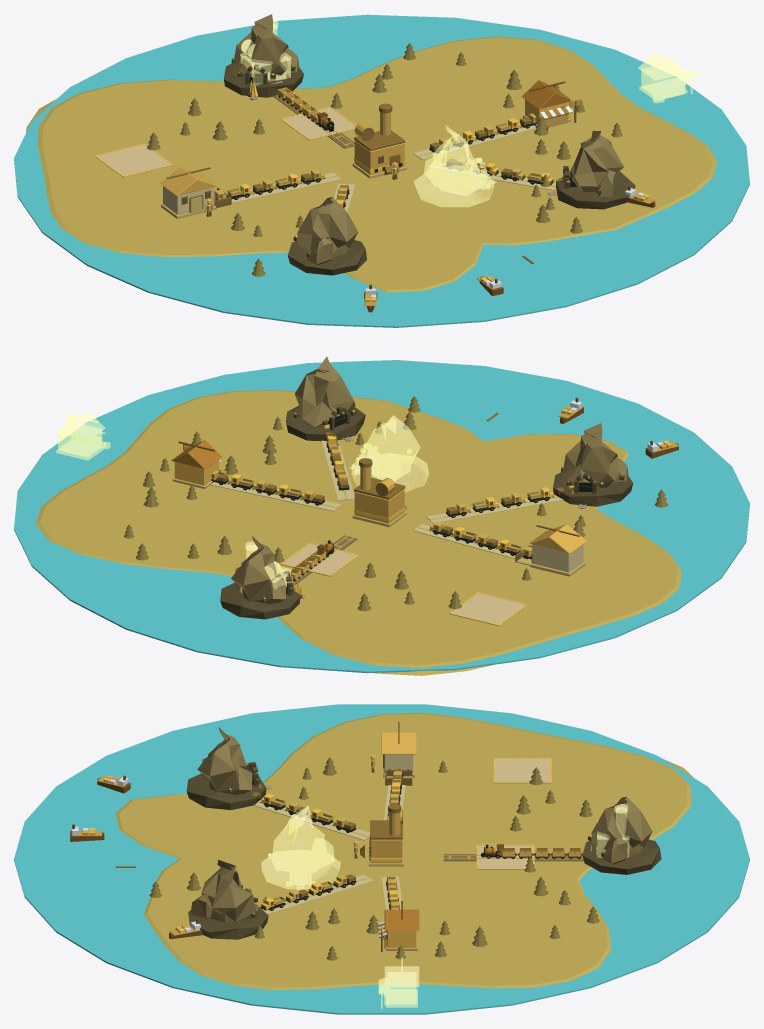
File: Island_Gold.fbx
3 views of the same model, one above another, from view 1: azimuth 30°, elevation 25°; view 2: azimuth 150°, elevation 25°; view 3: azimuth 270°, elevation 25° (orthographic).
Parts seen in each view (by area): view 1: isle_Gold, lagoon_Gold, mine_Gold.001, mine_Gold, ghost_mine.004, mine_Gold.002, refinery.004, storage.004, ghost_market.004, market.004, pad_expand.008, pad_expand.009 (+4 smaller); view 2: isle_Gold, lagoon_Gold, mine_Gold.001, mine_Gold.002, mine_Gold, ghost_mine.004, refinery.004, storage.004, ghost_market.004, market.004, pad_expand.008, pad_expand.009 (+4 smaller); view 3: isle_Gold, lagoon_Gold, mine_Gold, ghost_mine.004, mine_Gold.002, mine_Gold.001, refinery.004, storage.004, ghost_market.004, market.004, pad_expand.008, pad_expand.009 (+3 smaller).
Boxes of the visible parts, x1,y1,x2,y2 form: isle_Gold: (26,36,717,292); lagoon_Gold: (14,14,749,327); mine_Gold.001: (288,197,367,275); mine_Gold: (224,14,303,99); ghost_mine.004: (414,125,496,207); mine_Gold.002: (547,130,635,209); refinery.004: (352,103,406,178); storage.004: (160,166,231,218); ghost_market.004: (638,52,697,103); market.004: (521,80,580,130); pad_expand.008: (95,143,172,177); pad_expand.009: (281,107,356,140); isle_Gold: (35,390,681,675); lagoon_Gold: (14,360,749,673); mine_Gold.001: (553,423,633,508); mine_Gold.002: (286,356,365,441); mine_Gold: (220,535,305,619); ghost_mine.004: (348,415,428,492); refinery.004: (352,458,406,527); storage.004: (515,524,586,576); ghost_market.004: (55,411,110,460); market.004: (171,440,226,489); pad_expand.008: (450,592,527,626); pad_expand.009: (281,543,358,576); isle_Gold: (115,713,693,989); lagoon_Gold: (14,704,749,1014); mine_Gold: (582,797,661,874); ghost_mine.004: (261,806,340,890); mine_Gold.002: (188,859,268,939); mine_Gold.001: (186,727,271,809); refinery.004: (360,803,403,866); storage.004: (381,722,416,785); ghost_market.004: (378,957,419,1008); market.004: (378,900,419,951); pad_expand.008: (493,758,551,783); pad_expand.009: (476,844,534,869).
Size of the model in its own units: 142 by 20.05 by 143.
